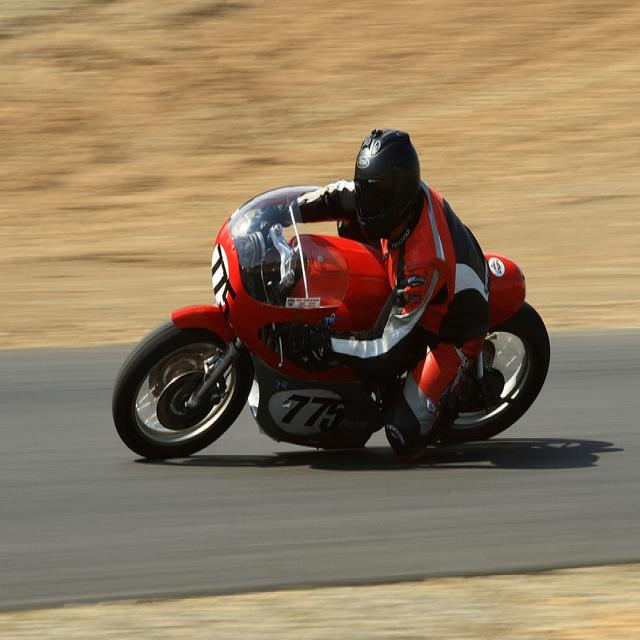motor: (100, 174, 557, 470)
